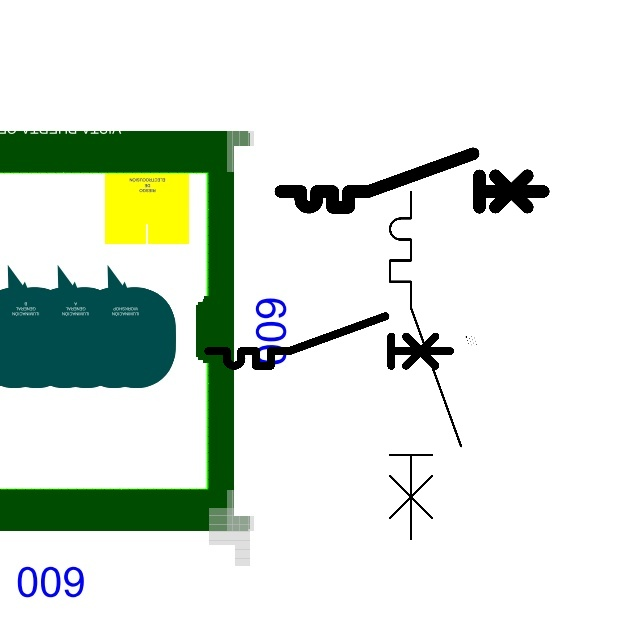interruptor_termomagnetico: (381, 183, 470, 547), (274, 147, 550, 214), (202, 310, 456, 372)
